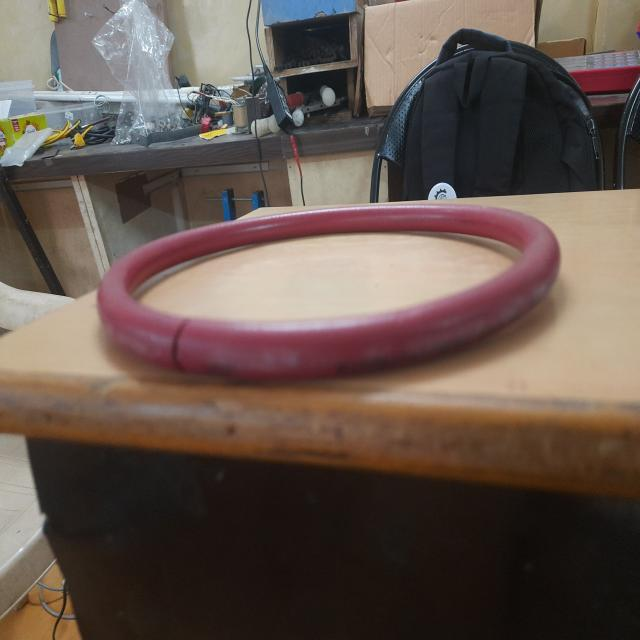daire: (95, 208, 560, 384)
